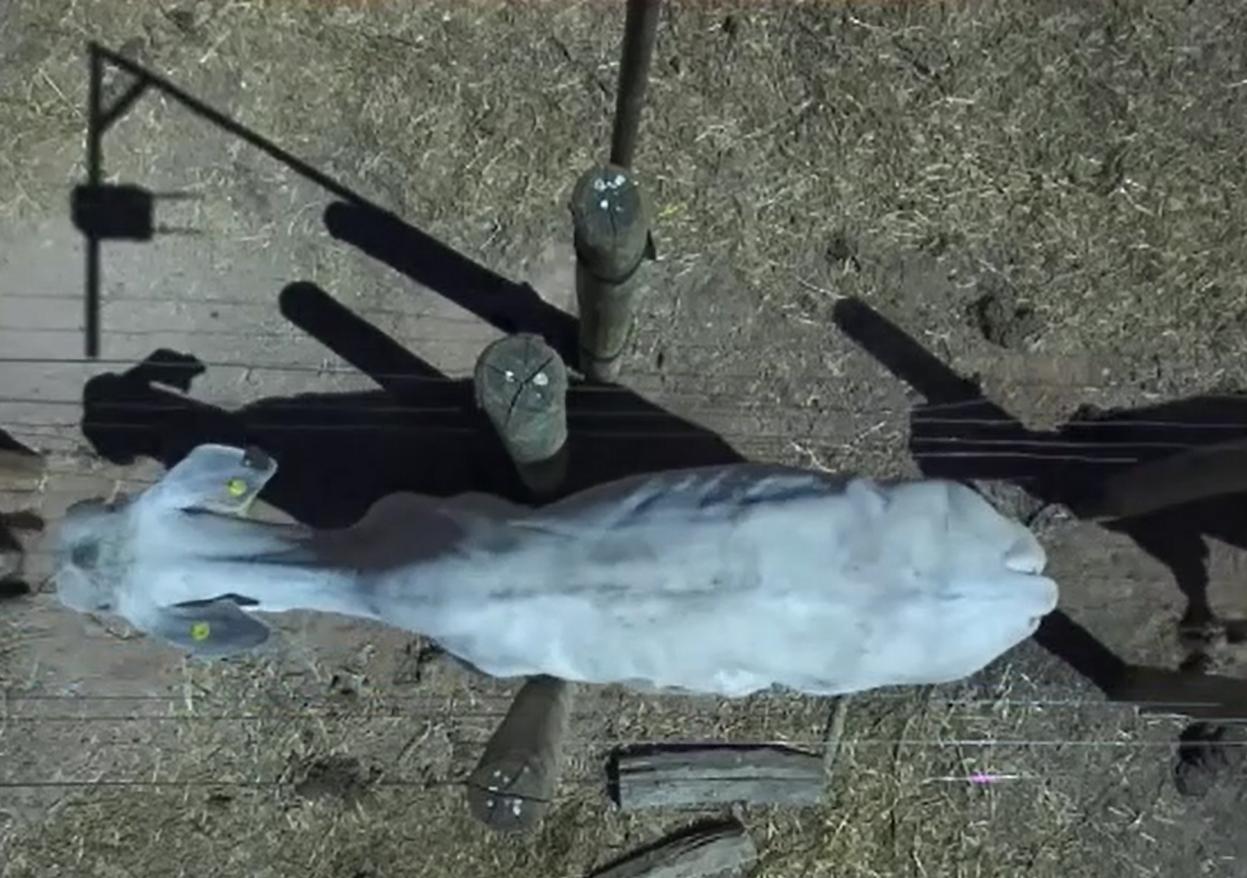cattle: (44, 420, 1071, 711)
